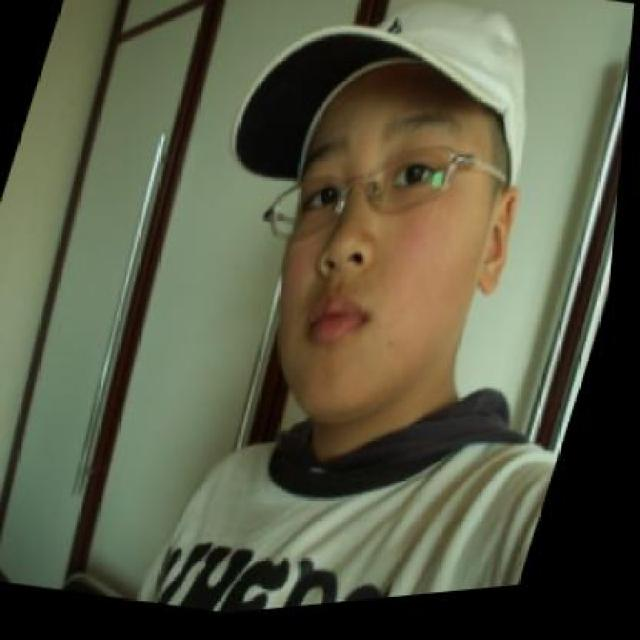hat: (217, 0, 583, 251)
